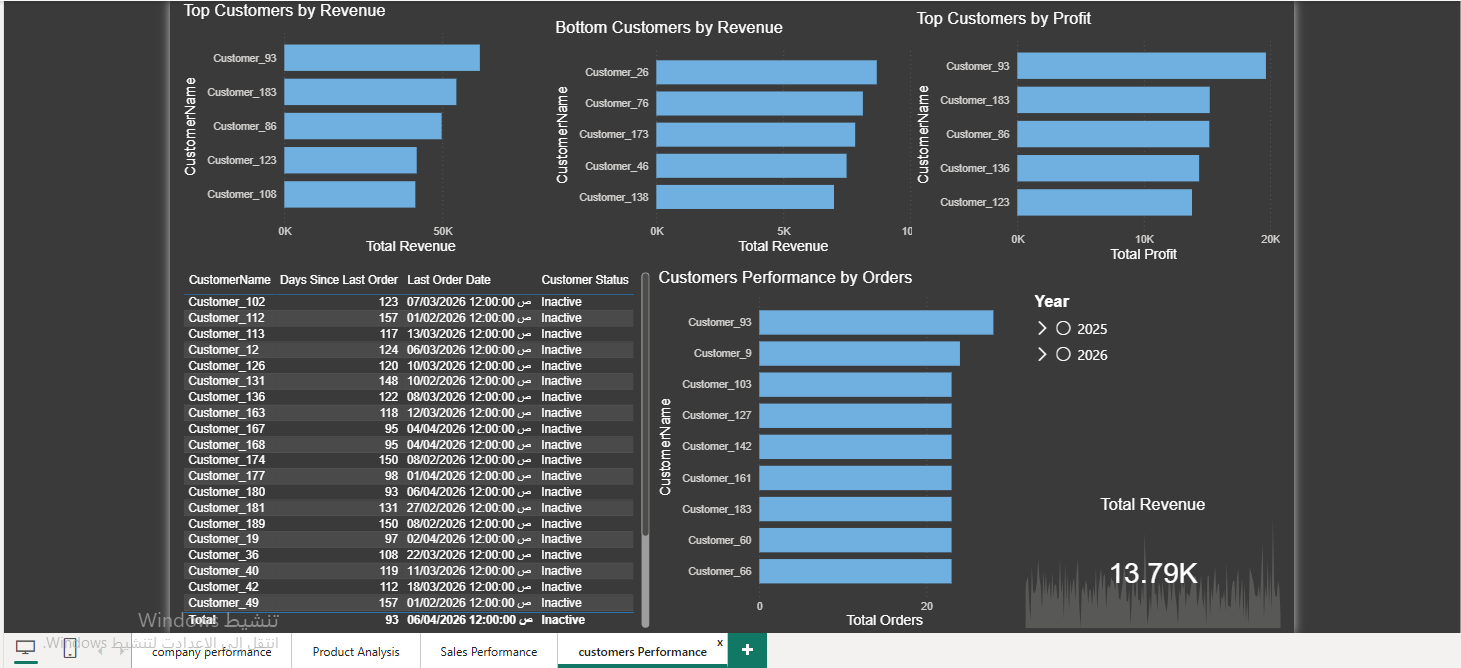

The page's visual inventory and layout, read from the dashboard file:
{"tool":"powerbi","page":{"name":"customers Performance","canvas":[1280,720],"ordinal":3},"visuals":[{"type":"barChart","title":"Top Customers by Revenue","fields":{"Category":["Sheet (4).CustomerName"],"Y":["Sheet.total revenue"]},"box":[10.3,0,424.1,293],"z":0},{"type":"barChart","title":"Bottom Customers by Revenue","fields":{"Y":["Sheet.total revenue"],"Category":["Sheet (4).CustomerName"]},"box":[434.4,19.3,425.4,273.7],"z":1000},{"type":"barChart","title":"Top Customers by Profit","fields":{"Y":["Sheet.total profit"],"Category":["Sheet (4).CustomerName"]},"box":[845.6,9,424.1,293],"z":2000},{"type":"tableEx","fields":{"Values":["Sheet (4).CustomerName","Sheet.Days Since Last Order","Sheet.Last Order Date","Sheet.Customer Status"]},"box":[10.3,304.6,541,415.1],"z":3000},{"type":"barChart","title":" Customers Performance by Orders","fields":{"Y":["Sheet.total orders"],"Category":["Sheet (4).CustomerName"]},"box":[551.3,304.6,417.7,415.1],"z":4000},{"type":"kpi","title":"Total Revenue","fields":{"TrendLine":["Sheet (4).CustomerName"],"Indicator":["Sheet.total revenue"]},"box":[969,562.9,300.7,156.8],"z":5000},{"type":"listSlicer","fields":{"Values":["Table1.OrderDate.Variation.Date Hierarchy.Year","Table1.OrderDate.Variation.Date Hierarchy.Quarter","Table1.OrderDate.Variation.Date Hierarchy.Month","Table1.OrderDate.Variation.Date Hierarchy.Day"]},"box":[979.3,331.6,300.7,181.2],"z":6000}]}

Visuals, with their boxes on the page's 1280x720 design canvas (x1, y1, x2, y2). These are canvas units, not pixel positions in the 1461x668 screenshot, which may show the page scaled, cropped or inside an application window:
"Top Customers by Revenue" barChart: region(10, 0, 434, 293)
"Bottom Customers by Revenue" barChart: region(434, 19, 860, 293)
"Top Customers by Profit" barChart: region(846, 9, 1270, 302)
tableEx - Sheet (4).CustomerName x Sheet.Days Since Last Order: region(10, 305, 551, 720)
" Customers Performance by Orders" barChart: region(551, 305, 969, 720)
"Total Revenue" kpi: region(969, 563, 1270, 720)
listSlicer - Table1.OrderDate.Variation.Date Hierarchy.Year x Table1.OrderDate.Variation.Date Hierarchy.Quarter: region(979, 332, 1280, 513)
